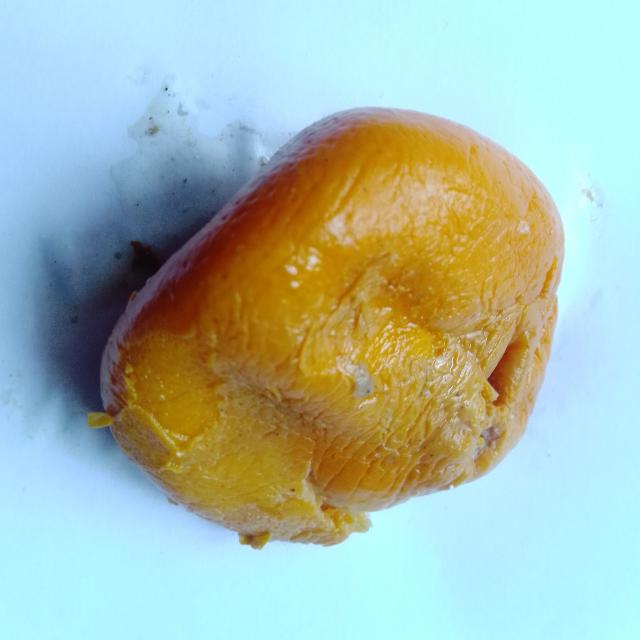orange: (102, 109, 563, 546)
